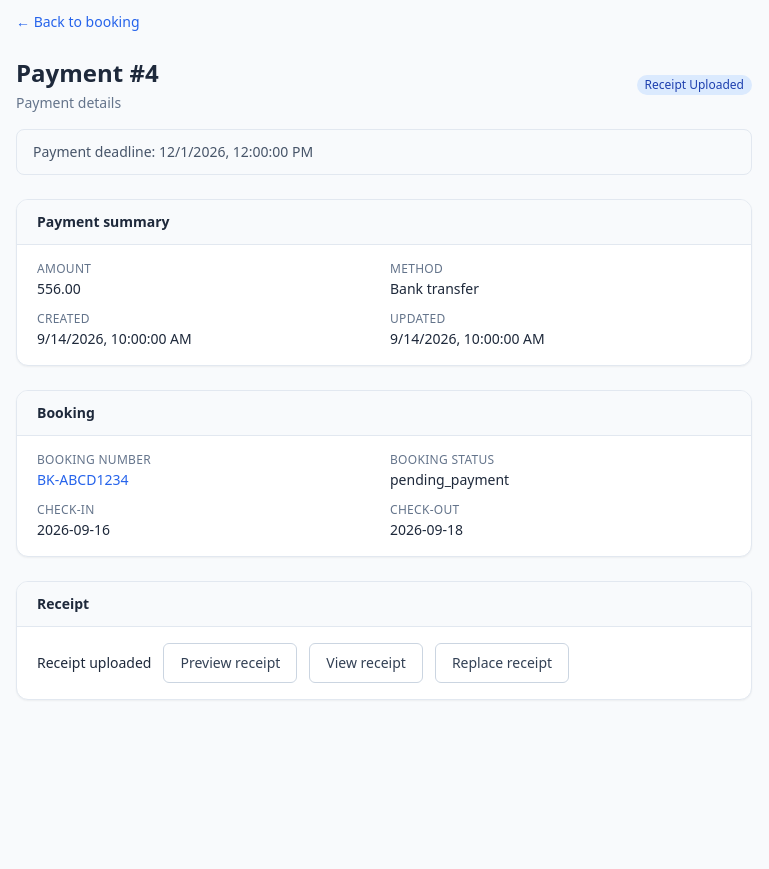
Test case: PaymentDetail page › shows the uploaded receipt controls and allows replacing it
Check: the text "Receipt uploaded" is shown, box x1=37 y1=653 x2=152 y2=673
Check: the button "View receipt" is shown, box x1=309 y1=643 x2=423 y2=683
Click the button "Replace receipt": (502,663) x1=435 y1=643 x2=569 y2=683
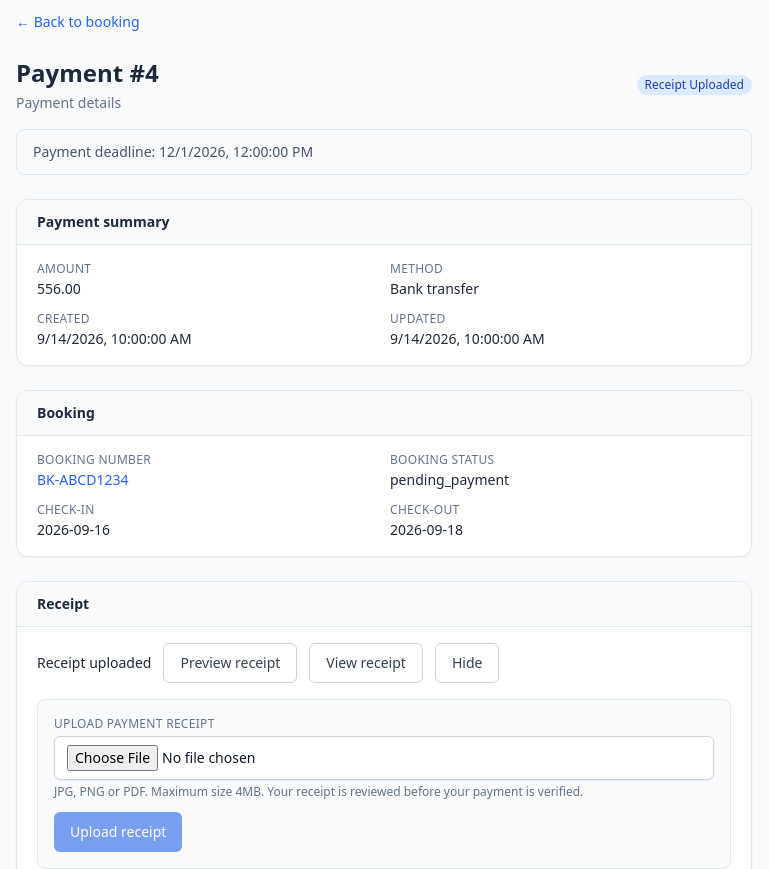
Check: the file field labelled "Upload payment receipt" is shown, box x1=54 y1=736 x2=714 y2=780
